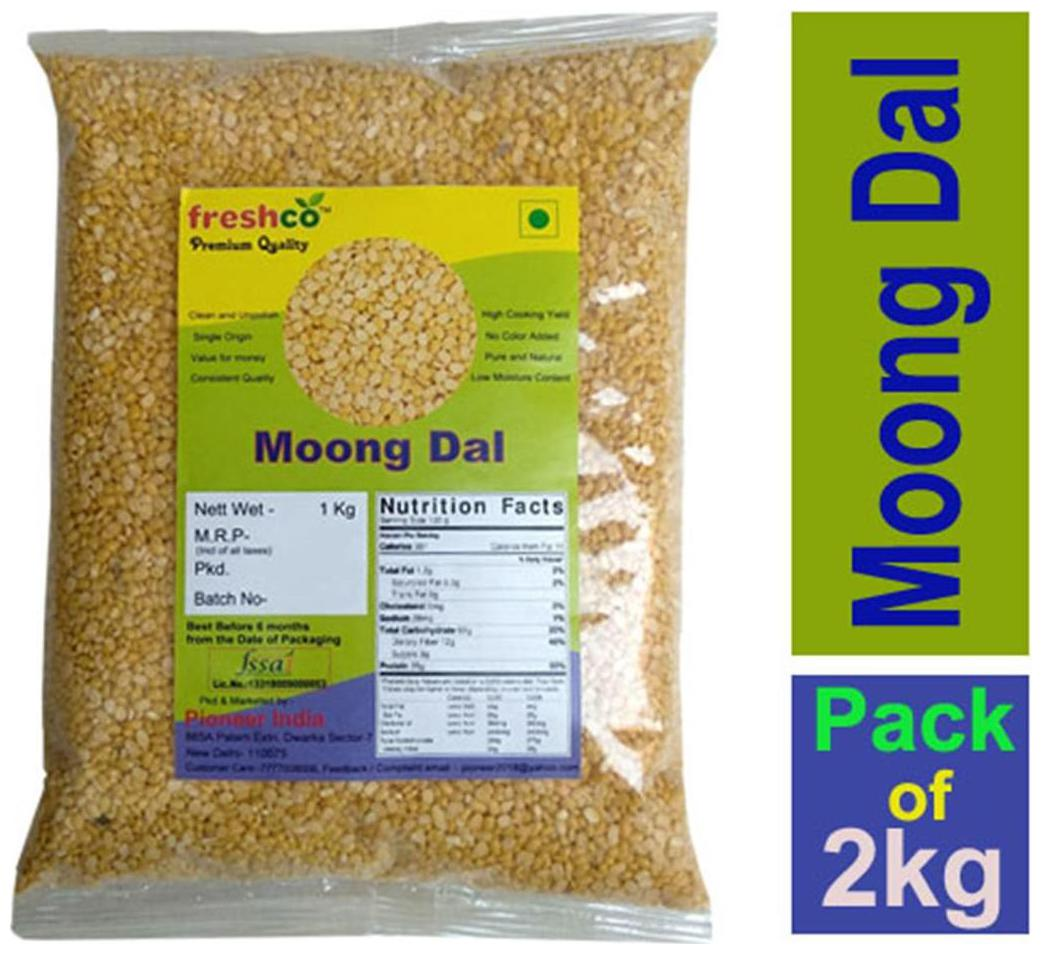fssai: (234, 648, 298, 675)
